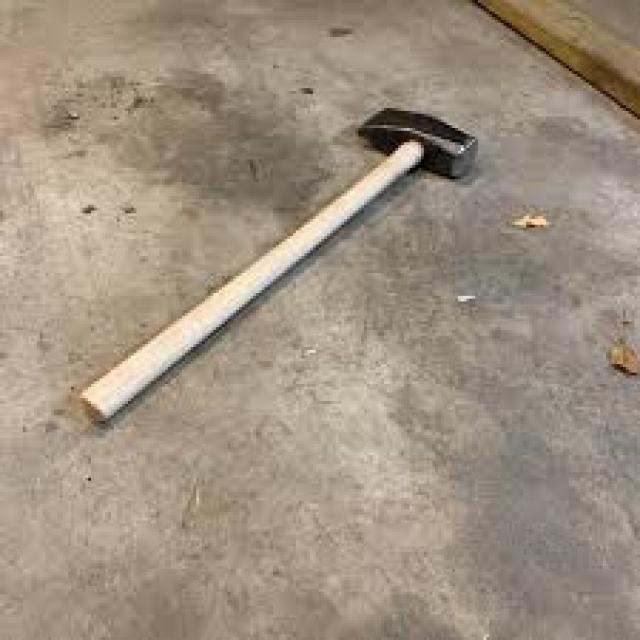hammer: (66, 104, 483, 434)
